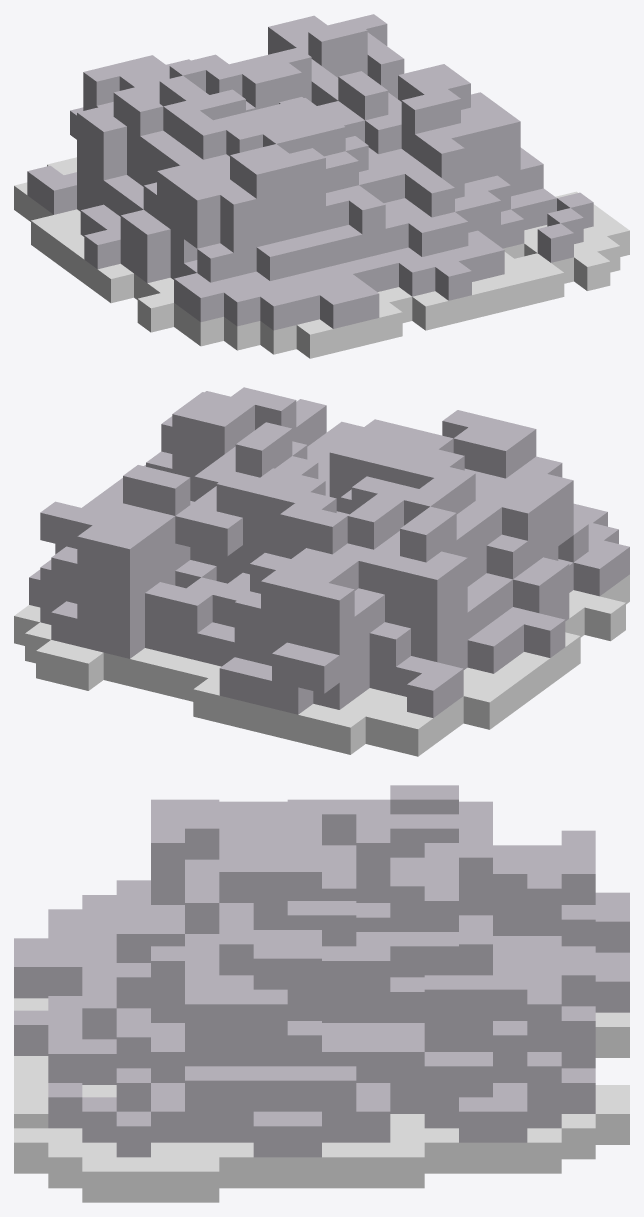
The model's file is ISBAL STOP.obj.
3 views of the same model, one above another, from view 1: azimuth 30°, elevation 25°; view 2: azimuth 150°, elevation 25°; view 3: azimuth 270°, elevation 25° (orthographic). The views are drawn at different scales.
Visible parts, largest first — view 1: ISBAL STOP; view 2: ISBAL STOP; view 3: ISBAL STOP.
Boxes of the visible parts, x1,y1,x2,y2 form: ISBAL STOP: [14, 14, 629, 358]; ISBAL STOP: [14, 387, 629, 756]; ISBAL STOP: [14, 785, 629, 1202].
Size of the model in its own units: 19 by 6 by 18.
Materials: 1 (1 with a texture image).
